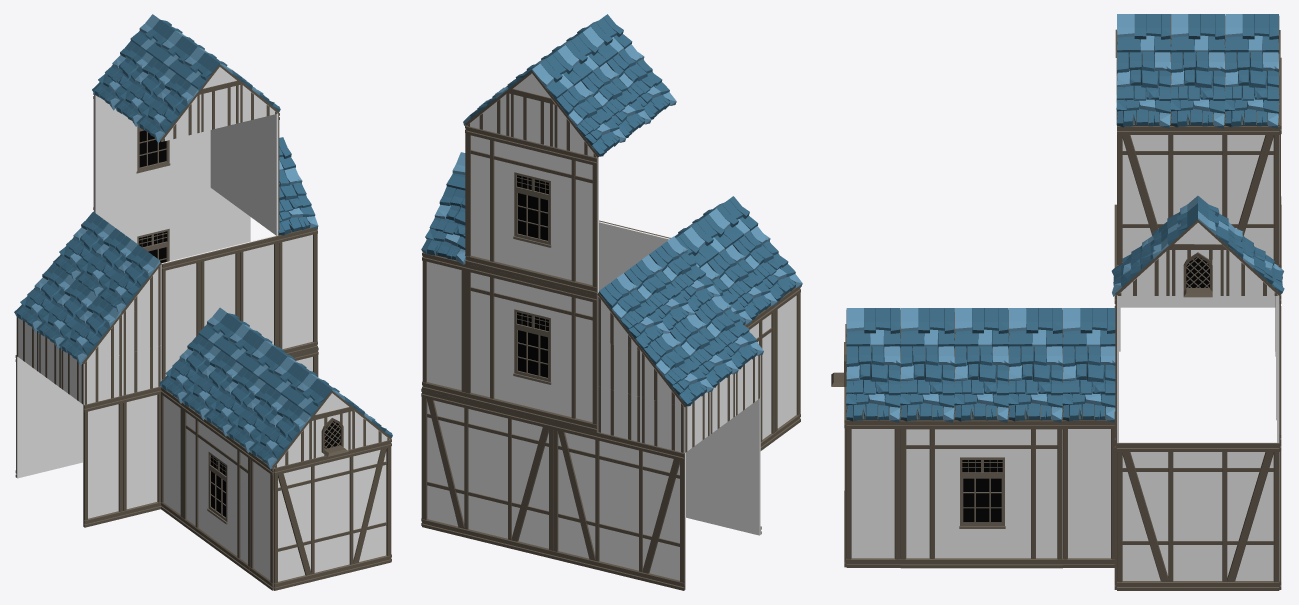
The model's file is House_17_parts.fbx.
The picture shows the model from 3 angles, left to right: view 1: azimuth 30°, elevation 25°; view 2: azimuth 150°, elevation 25°; view 3: azimuth 270°, elevation 25°; orthographic projection. The views are drawn at different scales.
Parts seen in each view (by area): view 1: WALL_02_2, WINDOW_03_5, WINDOW_03_2, WALL_02_6, WALL_02_5, WINDOW_03_4, WALL_03_8, WALL_03_10, WALL_03_7, WALL_03_13, WALL_03_11, WALL_03_4 (+42 smaller); view 2: WINDOW_03_5, WALL_02_5, WINDOW_03_4, WALL_02_4, WALL_03_14, WALL_03_8, WALL_03_4, ROOF_base_16, ROOF_base_18, ROOF_base_17, WALL_03_7, WINDOW_03_2 (+29 smaller); view 3: WALL_02_3, WINDOW_03_3, WALL_02_6, WALL_03_5, WALL_03_6, ROOF_base_5, ROOF_base_6, ROOF_base_4, ROOF_base_3, ROOF_base_21, ROOF_base_23, ROOF_base_22 (+22 smaller).
Part boxes in pixels (x1,y1,x2,y2): WALL_02_2: (274, 440, 391, 590); WINDOW_03_5: (93, 93, 210, 214); WINDOW_03_2: (182, 403, 250, 573); WALL_02_6: (210, 113, 279, 235); WALL_02_5: (15, 355, 82, 478); WINDOW_03_4: (98, 187, 212, 263); WALL_03_8: (83, 395, 123, 527); WALL_03_10: (278, 228, 317, 355); WALL_03_7: (123, 386, 161, 517); WALL_03_13: (161, 254, 201, 380); WALL_03_11: (239, 235, 278, 347); WALL_03_4: (249, 452, 273, 590); WINDOW_03_5: (465, 126, 598, 295); WALL_02_5: (553, 422, 685, 590); WINDOW_03_4: (465, 264, 597, 432); WALL_02_4: (422, 390, 553, 558); WALL_03_14: (422, 252, 466, 400); WALL_03_8: (716, 397, 761, 535); WALL_03_4: (774, 287, 800, 439); ROOF_base_16: (597, 273, 669, 350); ROOF_base_18: (554, 81, 626, 157); ROOF_base_17: (641, 332, 713, 406); WALL_03_7: (686, 430, 715, 524); WINDOW_03_2: (744, 305, 775, 450); WALL_02_3: (1117, 442, 1279, 590); WINDOW_03_3: (900, 420, 1062, 568); WALL_02_6: (1117, 126, 1279, 266); WALL_03_5: (846, 420, 900, 567); WALL_03_6: (1063, 420, 1115, 567); ROOF_base_5: (900, 346, 954, 422); ROOF_base_6: (846, 345, 900, 422); ROOF_base_4: (954, 346, 1008, 422); ROOF_base_3: (1008, 346, 1062, 422); ROOF_base_21: (1224, 52, 1279, 128); ROOF_base_23: (1116, 52, 1171, 128); ROOF_base_22: (1170, 52, 1225, 128).
Size of the model in its own units: 638 by 1059 by 838.
